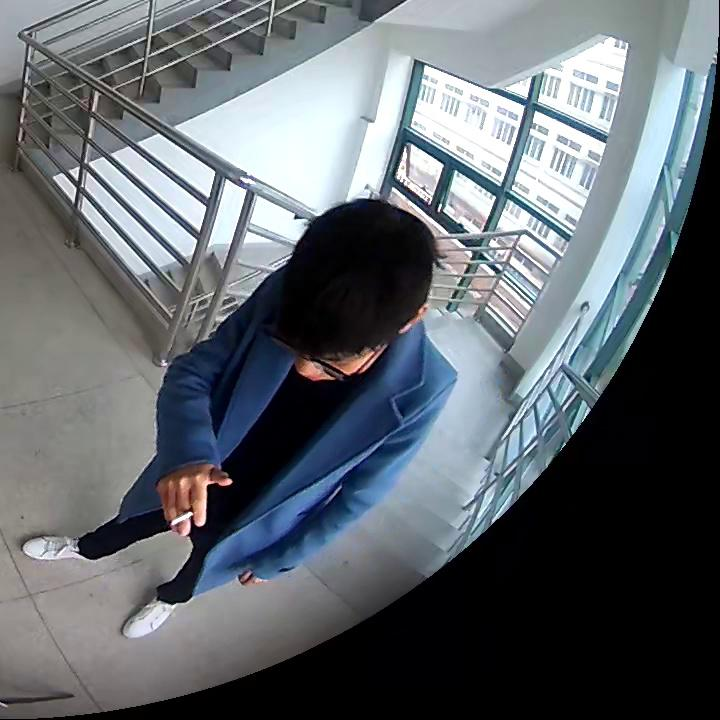handsmoke: (158, 465, 228, 537)
handwithoutsmoke: (234, 566, 273, 589)
mouthwithoutsmoke: (288, 200, 434, 385)
